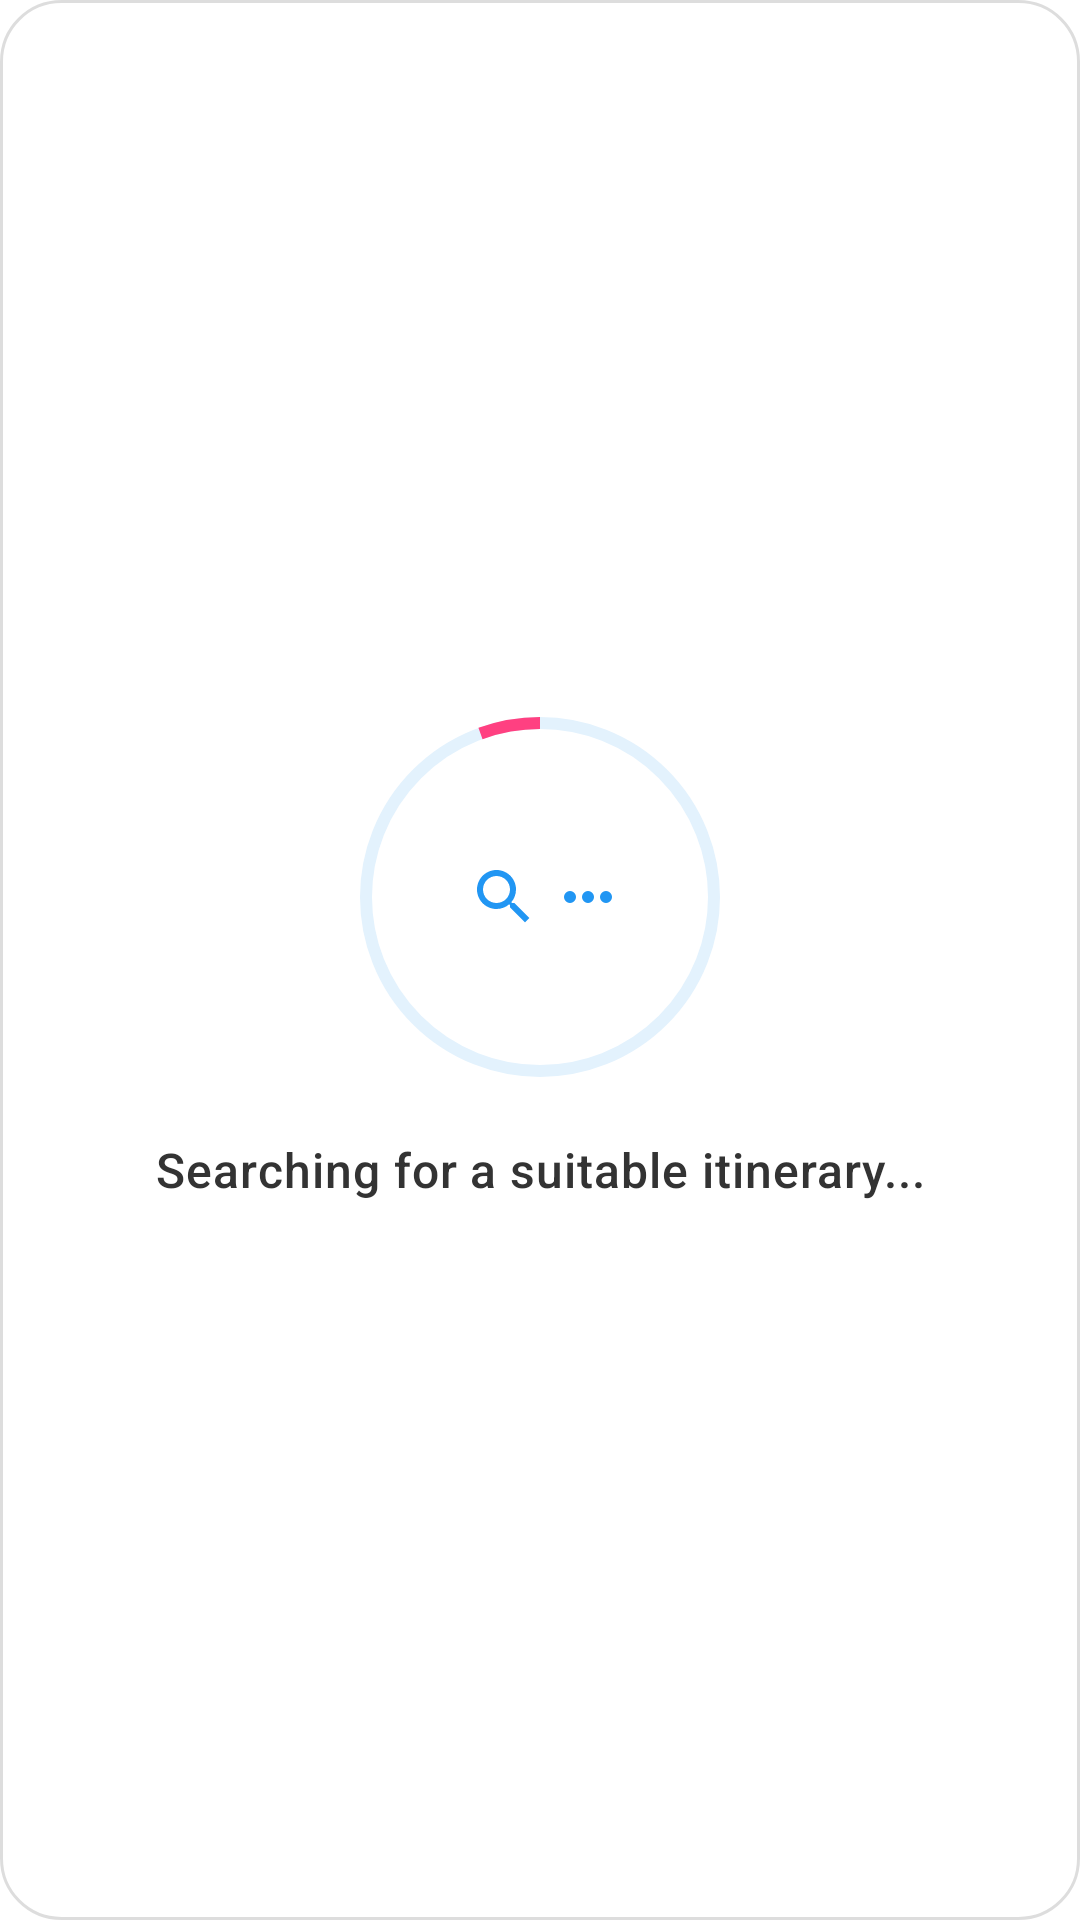

Point at icon controls on the screen. Image size 1080 x 1920, points as (x=x, y=y).
search animated: (x=503, y=896)
